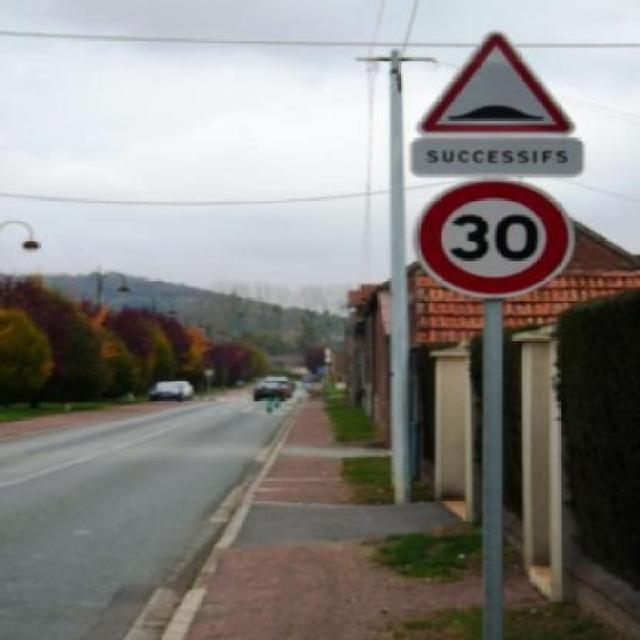forb_speed_over_30: (417, 181, 571, 294)
